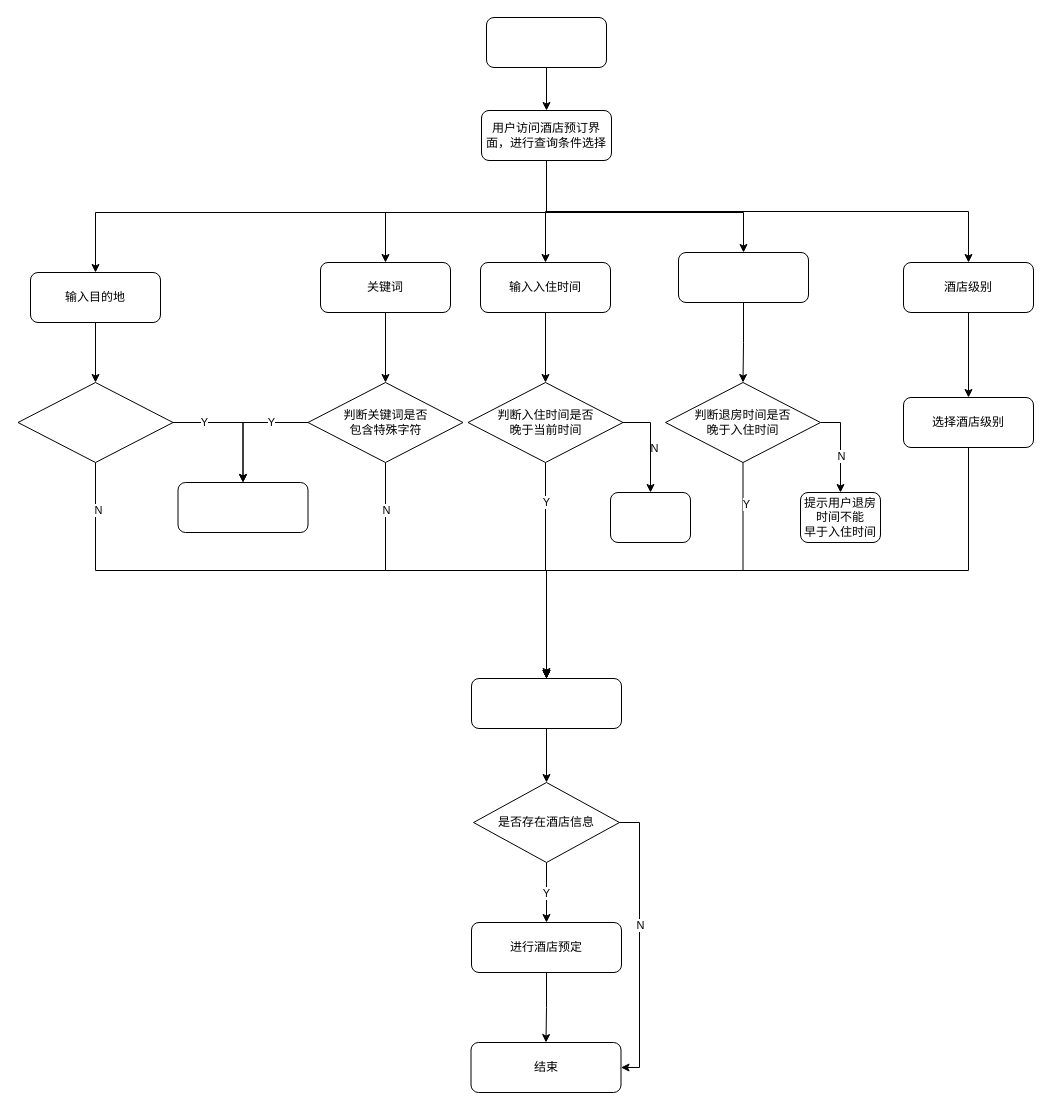
Some shapes in this 1051 by 1110 pixel diagram are drawn without their labels. The centre of each missing label's shape, as x and y in pixels:
"判断目的地是否 包含特殊字符" belongs at (x=95, y=422).
"开始" belongs at (x=546, y=42).
"提示用户入住时间不能 早于当前时间" belongs at (x=650, y=517).
"提示用户请勿输入特殊字符" belongs at (x=242, y=507).
"输入退房时间" belongs at (x=743, y=277).
"进行酒店检索" belongs at (x=546, y=703).
